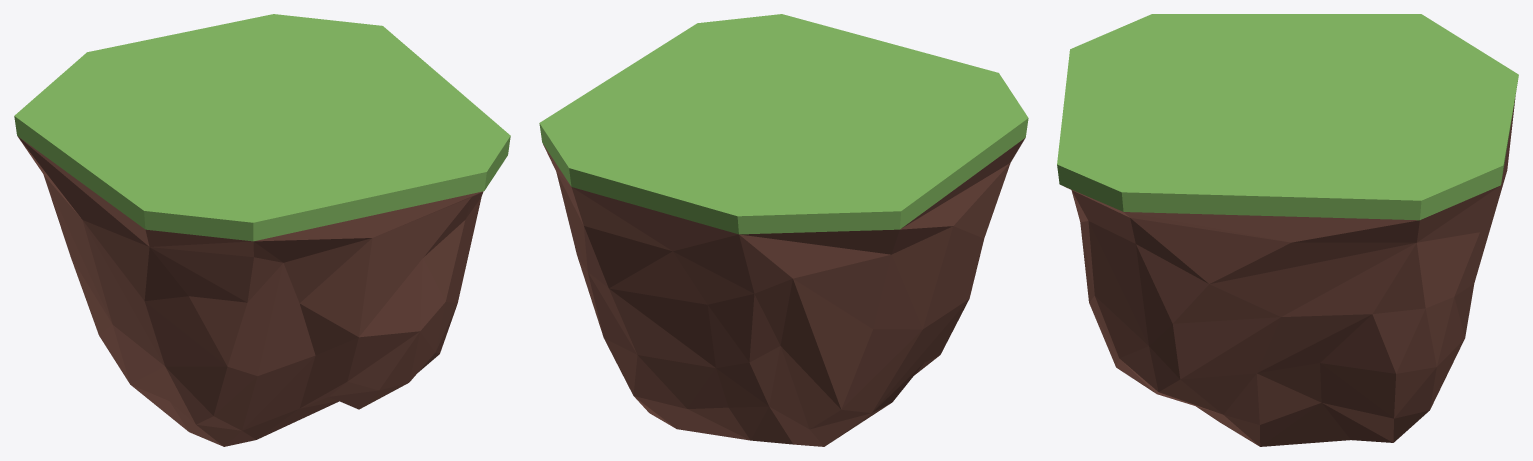
File: Island20.fbx
The picture shows the model from 3 angles, left to right: view 1: azimuth 30°, elevation 25°; view 2: azimuth 150°, elevation 25°; view 3: azimuth 270°, elevation 25°; orthographic projection. The views are drawn at different scales.
Parts seen in each view (by area): view 1: Island20; view 2: Island20; view 3: Island20.
Part boxes in pixels (bbox=[...]): Island20: bbox=[14, 14, 510, 446]; Island20: bbox=[539, 14, 1028, 446]; Island20: bbox=[1057, 14, 1518, 446].
Bounding box in the file's own units: 3.37 × 2.64 × 3.52.
